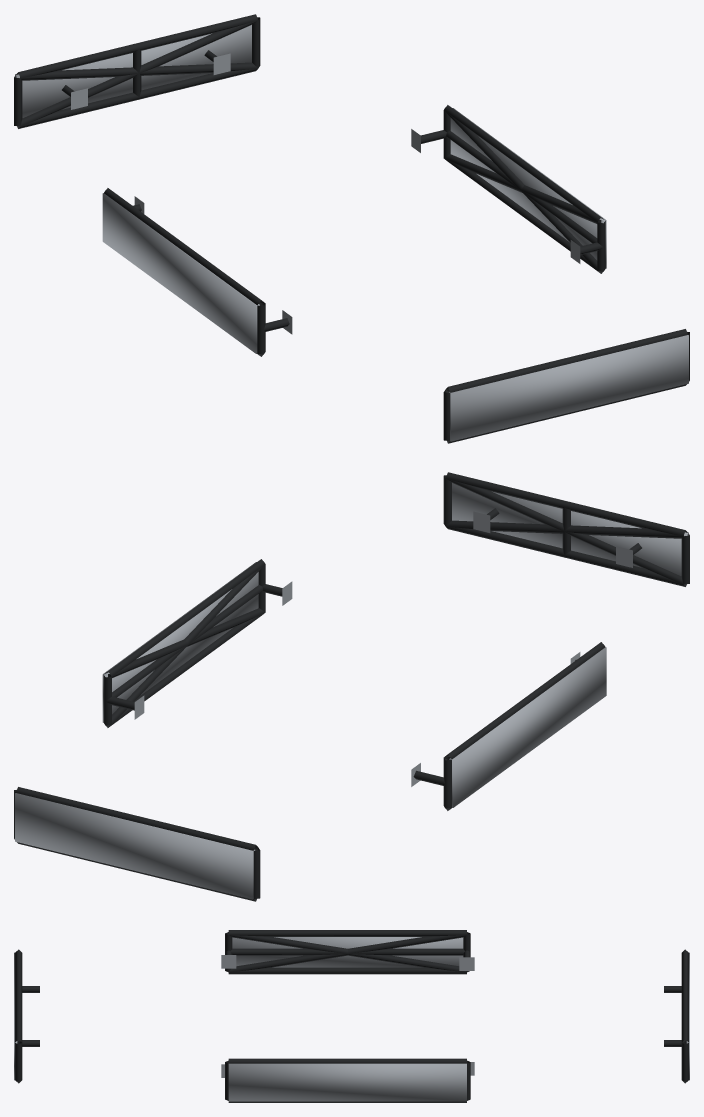
Rendered from taurenza_basalto_protecao.glb.
The picture shows the model from 3 angles, top to bottom: view 1: azimuth 30°, elevation 25°; view 2: azimuth 150°, elevation 25°; view 3: azimuth 270°, elevation 25°; orthographic projection. The views are drawn at different scales.
Visible parts, largest first — view 1: Protection_front_Level3_Details, Protection_left_Level3_Details, Protection_rear_Level1_Details, Protection_rear_Level3_Details, Protection_right_Level1_Details, Protection_rear_Level2_Details, Protection_right_Level2_Details, Protection_right_Level3_Details, Protection_front_Level1_Details, Protection_left_Level1_Details; view 2: Protection_rear_Level3_Details, Protection_left_Level3_Details, Protection_front_Level1_Details, Protection_front_Level3_Details, Protection_right_Level1_Details, Protection_front_Level2_Details, Protection_right_Level2_Details, Protection_right_Level3_Details, Protection_rear_Level1_Details, Protection_left_Level1_Details; view 3: Protection_right_Level3_Details, Protection_left_Level2_Details, Protection_left_Level1_Details, Protection_left_Level3_Details, Protection_right_Level1_Details, Protection_rear_Level1_Details, Protection_front_Level1_Details.
Boxes of the visible parts, x1,y1,x2,y2 form: Protection_front_Level3_Details: [448, 335, 688, 441]; Protection_left_Level3_Details: [102, 193, 259, 353]; Protection_rear_Level1_Details: [14, 14, 260, 128]; Protection_rear_Level3_Details: [15, 25, 251, 118]; Protection_right_Level1_Details: [411, 105, 605, 273]; Protection_rear_Level2_Details: [16, 20, 257, 127]; Protection_right_Level2_Details: [444, 110, 604, 273]; Protection_right_Level3_Details: [450, 108, 606, 268]; Protection_front_Level1_Details: [443, 329, 689, 443]; Protection_left_Level1_Details: [104, 188, 292, 356]; Protection_rear_Level3_Details: [15, 793, 255, 899]; Protection_left_Level3_Details: [449, 647, 606, 807]; Protection_front_Level1_Details: [443, 472, 689, 586]; Protection_front_Level3_Details: [452, 483, 688, 576]; Protection_right_Level1_Details: [103, 559, 292, 727]; Protection_front_Level2_Details: [446, 478, 687, 585]; Protection_right_Level2_Details: [105, 565, 265, 727]; Protection_right_Level3_Details: [102, 562, 258, 722]; Protection_rear_Level1_Details: [14, 787, 260, 901]; Protection_left_Level1_Details: [411, 642, 605, 810]; Protection_right_Level3_Details: [228, 1063, 466, 1101]; Protection_left_Level2_Details: [228, 933, 467, 972]; Protection_left_Level1_Details: [221, 930, 474, 974]; Protection_left_Level3_Details: [232, 937, 463, 967]; Protection_right_Level1_Details: [221, 1058, 474, 1102]; Protection_rear_Level1_Details: [664, 949, 688, 1083]; Protection_front_Level1_Details: [15, 949, 39, 1083].
Size of the model in its own units: 2.28 by 0.354 by 4.91.
1 material, 1 textured.
